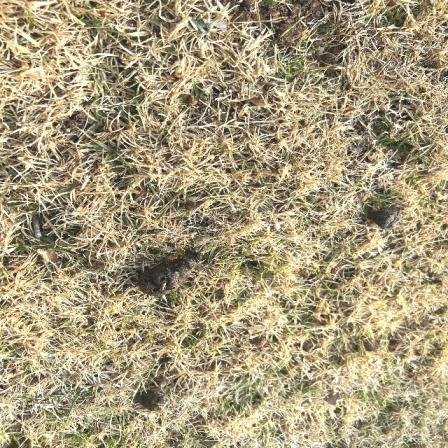dog-poop: (140, 244, 214, 290)
